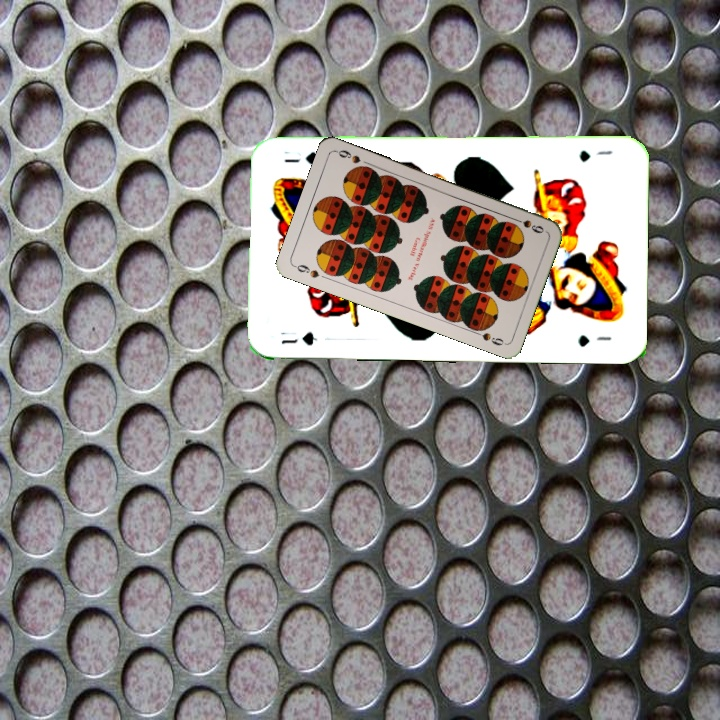GU: (277, 328, 320, 348), (575, 146, 615, 164)
S9: (508, 214, 547, 236), (290, 260, 322, 281)
